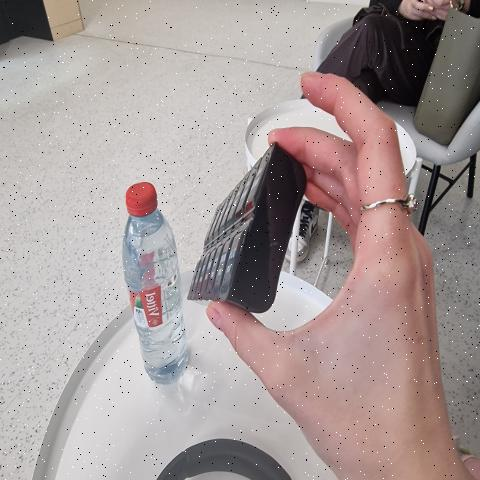Pill-box: (179, 134, 320, 325)
